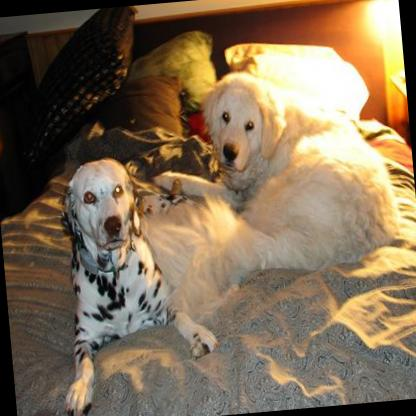kuvasz: (142, 53, 407, 322)
